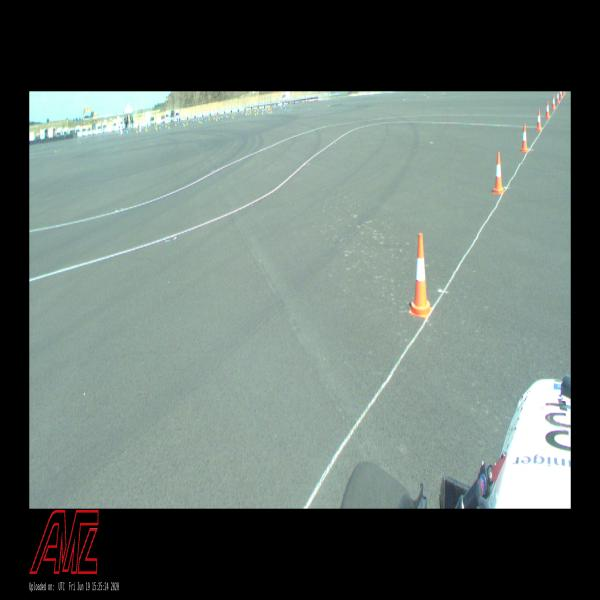orange_cone: (409, 234, 432, 318), (493, 152, 504, 194), (521, 124, 528, 152), (536, 110, 542, 131), (546, 101, 550, 118), (552, 95, 556, 109), (556, 92, 559, 102), (560, 91, 562, 98)
